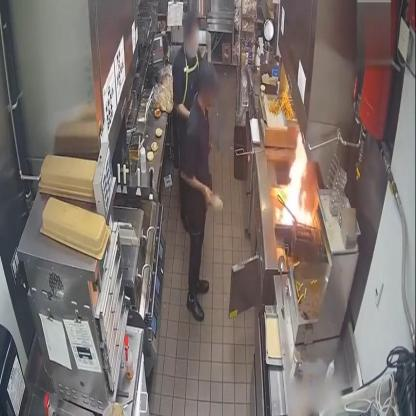fire: (277, 130, 317, 232)
